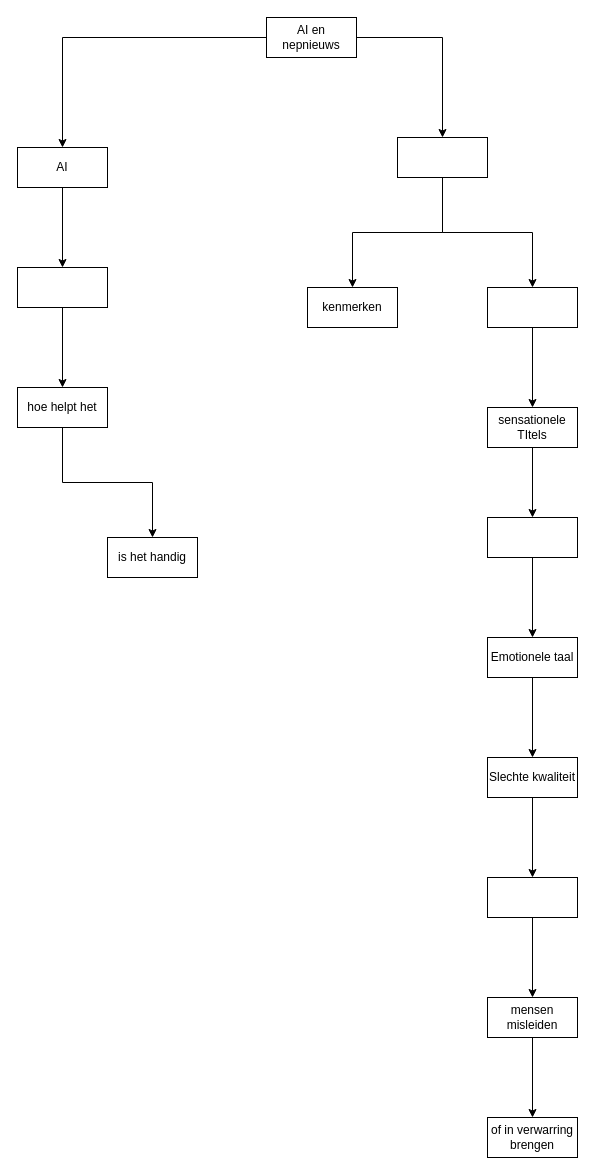
The diagram is 595 pixels wide and 1175 high, and some of its shapes have lost their labels. Each missing label, with the centre of its shape:
"clicks genereren" belongs at point 532,897.
"geen bron" belongs at point 532,537.
"nepnieuws" belongs at point 442,157.
"waarom bestaat het" belongs at point 532,307.
"wat is AI" belongs at point 62,287.
